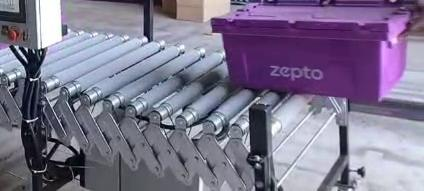box: (211, 0, 417, 102), (0, 44, 4, 48)
